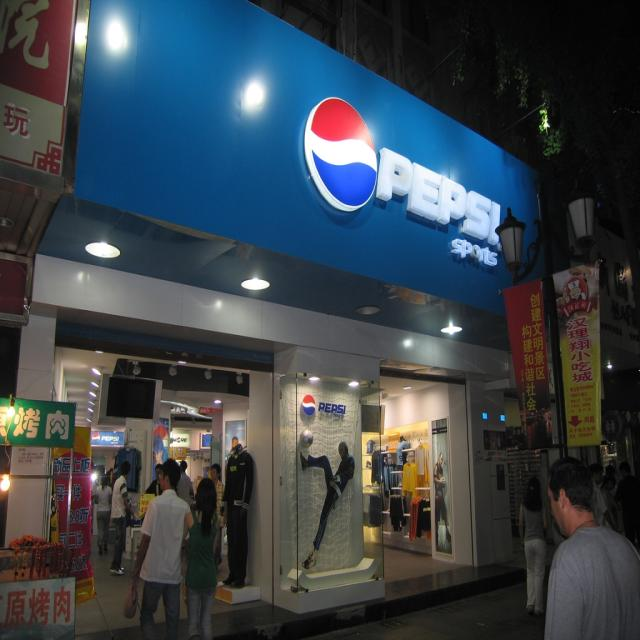pepsi: (305, 99, 379, 212), (303, 395, 318, 417)
